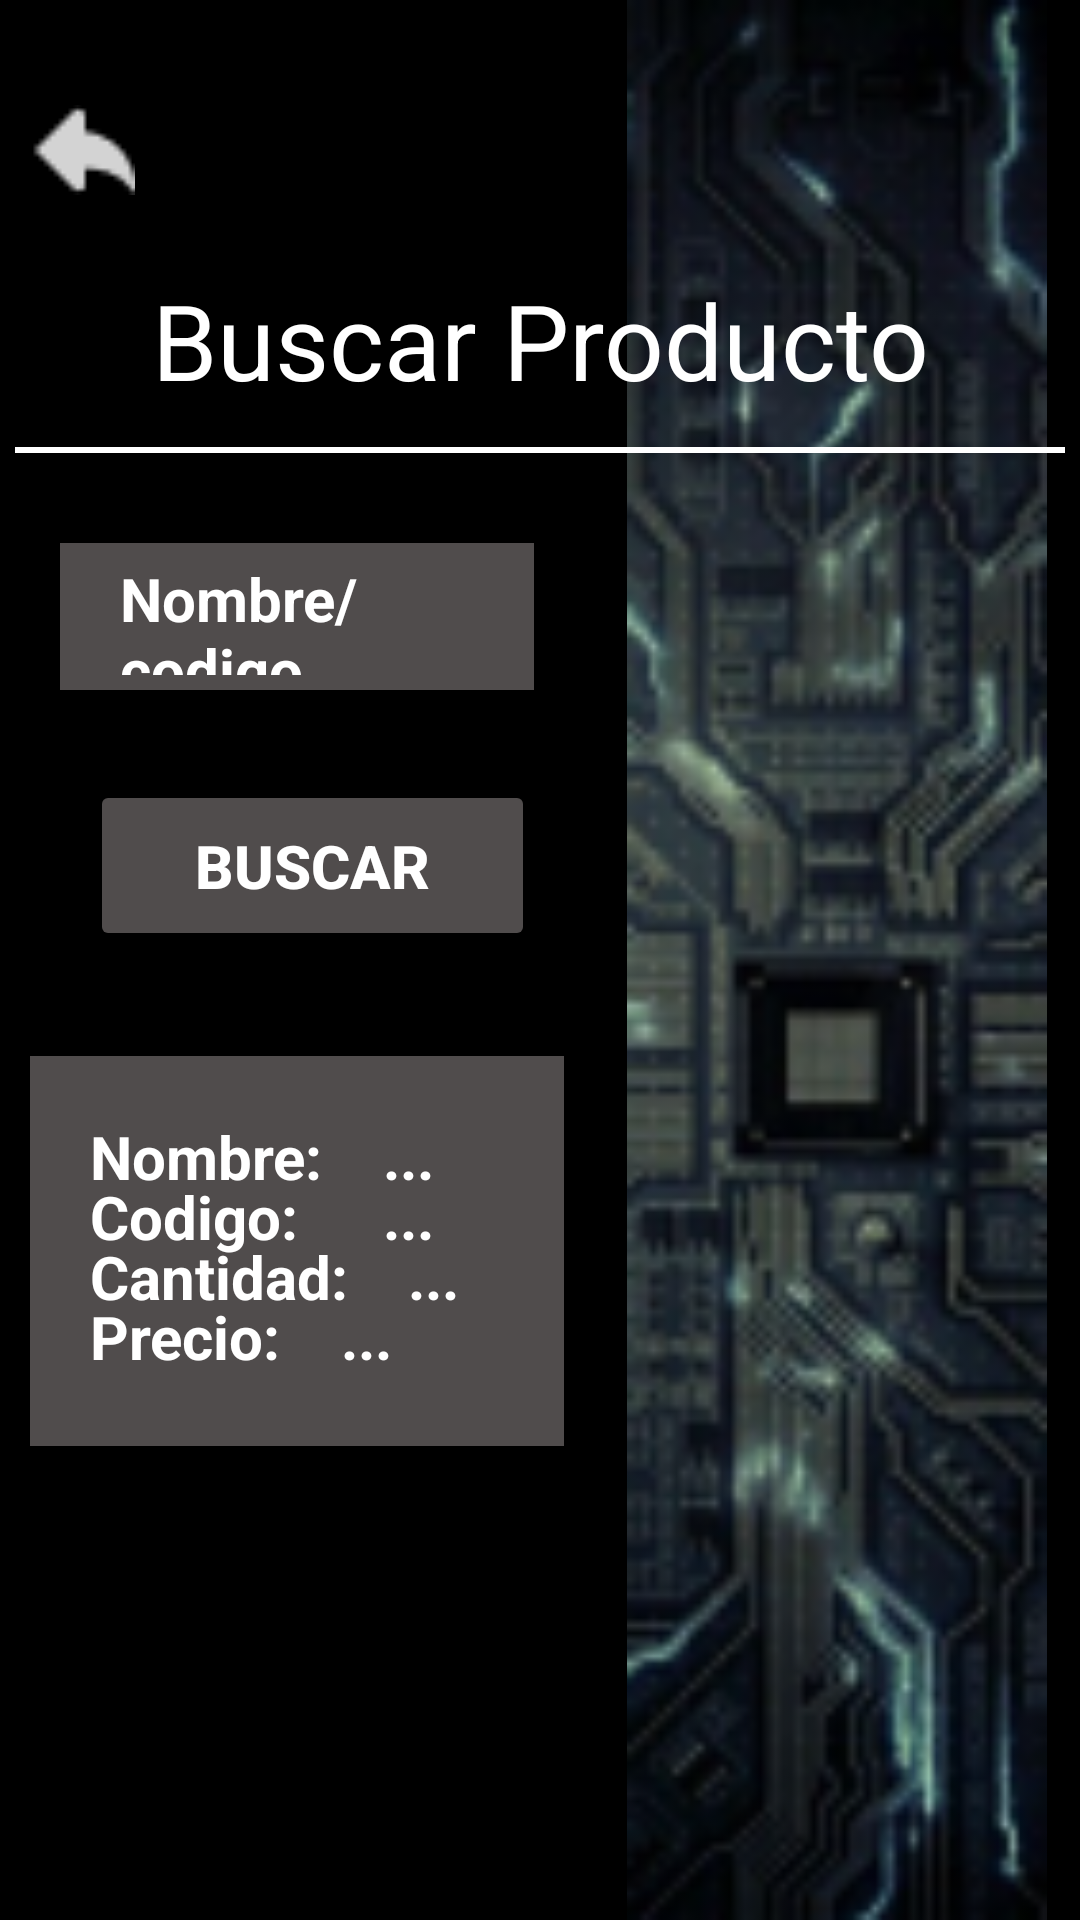

Icon bounding boxes for this 1080*1920 phone screenshot, format (x1, y1, x2, y2):
back: (34, 108, 135, 195)
